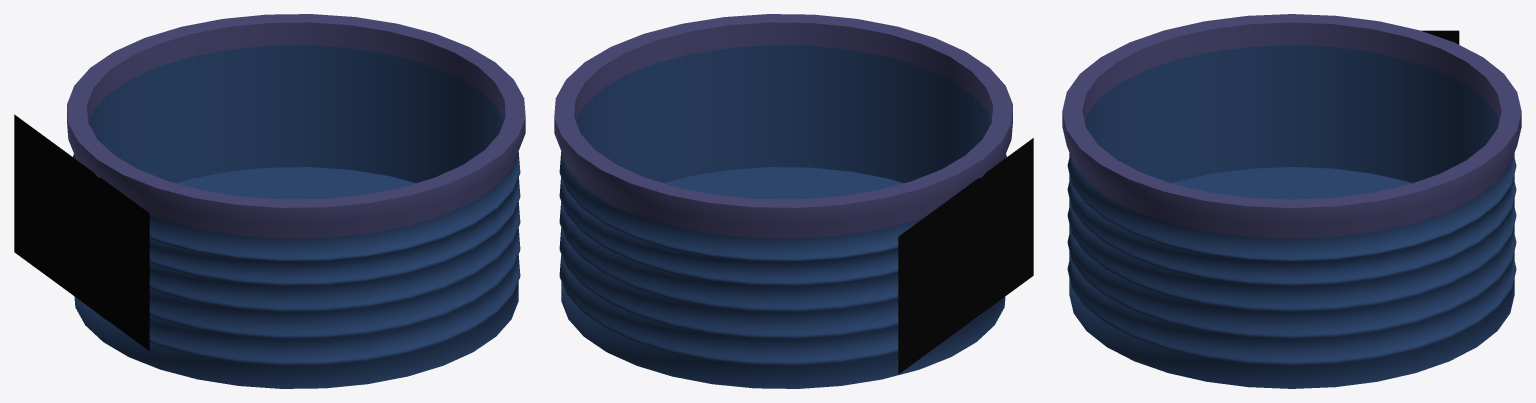
The model's file is tank.fbx.
3 views of the same model, side by side, from view 1: azimuth 30°, elevation 25°; view 2: azimuth 150°, elevation 25°; view 3: azimuth 270°, elevation 25° (orthographic).
Visible parts, largest first — view 1: Cylinder, 5m 4m 3m 2m 1m (2); view 2: Cylinder, 5m 4m 3m 2m 1m (2); view 3: Cylinder.
Boxes of the visible parts, x1,y1,x2,y2 form: Cylinder: (67,14,525,388); 5m 4m 3m 2m 1m (2): (14,114,149,350); Cylinder: (554,14,1012,388); 5m 4m 3m 2m 1m (2): (898,138,1033,374); Cylinder: (1062,14,1521,388).
Bounding box in the file's own units: 2232 × 986 × 2232.
